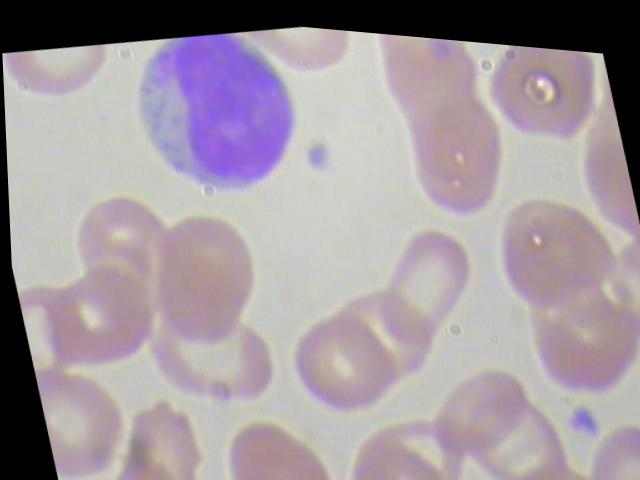Platelets: (560, 384, 605, 435), (296, 129, 333, 167)
Red Blood Cells: (136, 189, 275, 353), (355, 207, 499, 354), (481, 169, 625, 316), (132, 284, 283, 418), (58, 182, 189, 325), (271, 292, 408, 424), (475, 33, 619, 145), (413, 345, 537, 460), (30, 352, 135, 479), (203, 393, 341, 479), (1, 34, 124, 119), (245, 17, 362, 82)
White Blood Cells: (113, 12, 315, 214)
